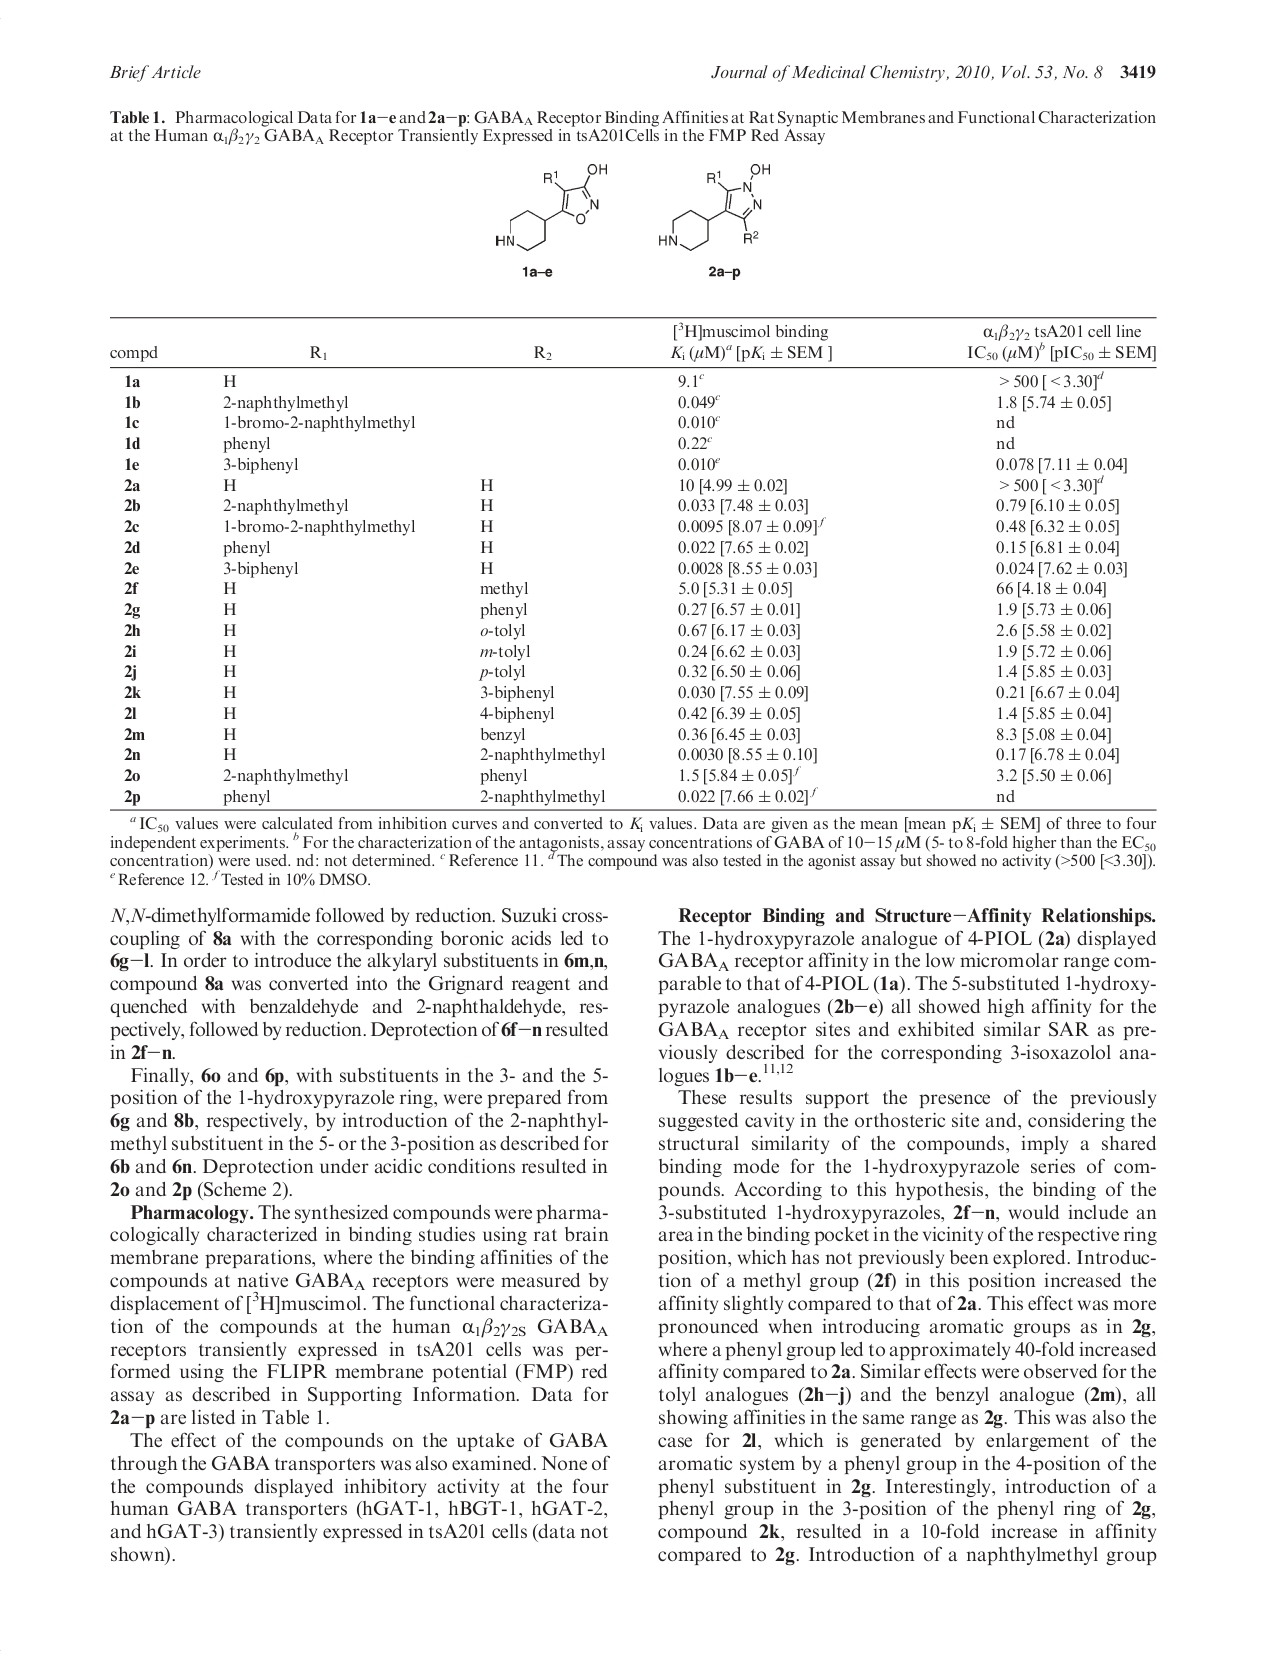exist_molecular: (489, 157, 616, 251), (658, 160, 778, 258)
